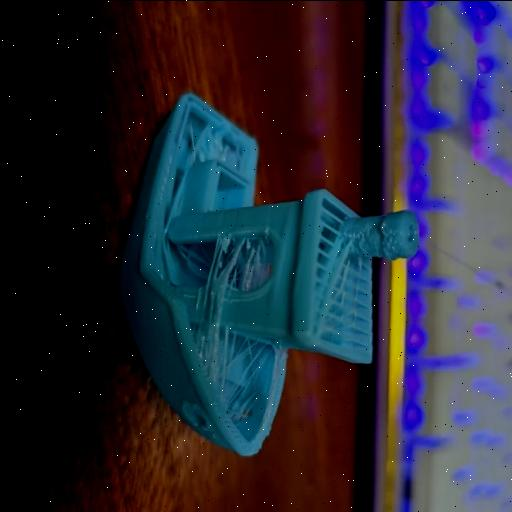stringing: (192, 314, 274, 410), (208, 230, 271, 300)
